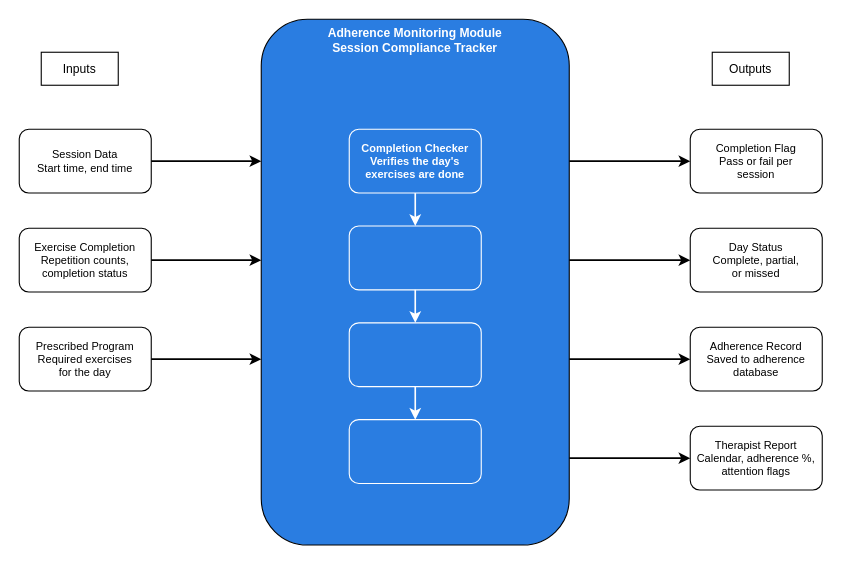
This 842x564 diagram has some shape labels left out. Here are the shapes that lost their labels. From the top down, the box of each, then its label:
(348, 225, 481, 290): Status Classifier Complete, partial, or missed
(348, 322, 481, 387): Adherence Record Writer Stores adherence results in database
(348, 419, 481, 483): Report Generator 14-day calendar and attention flags
